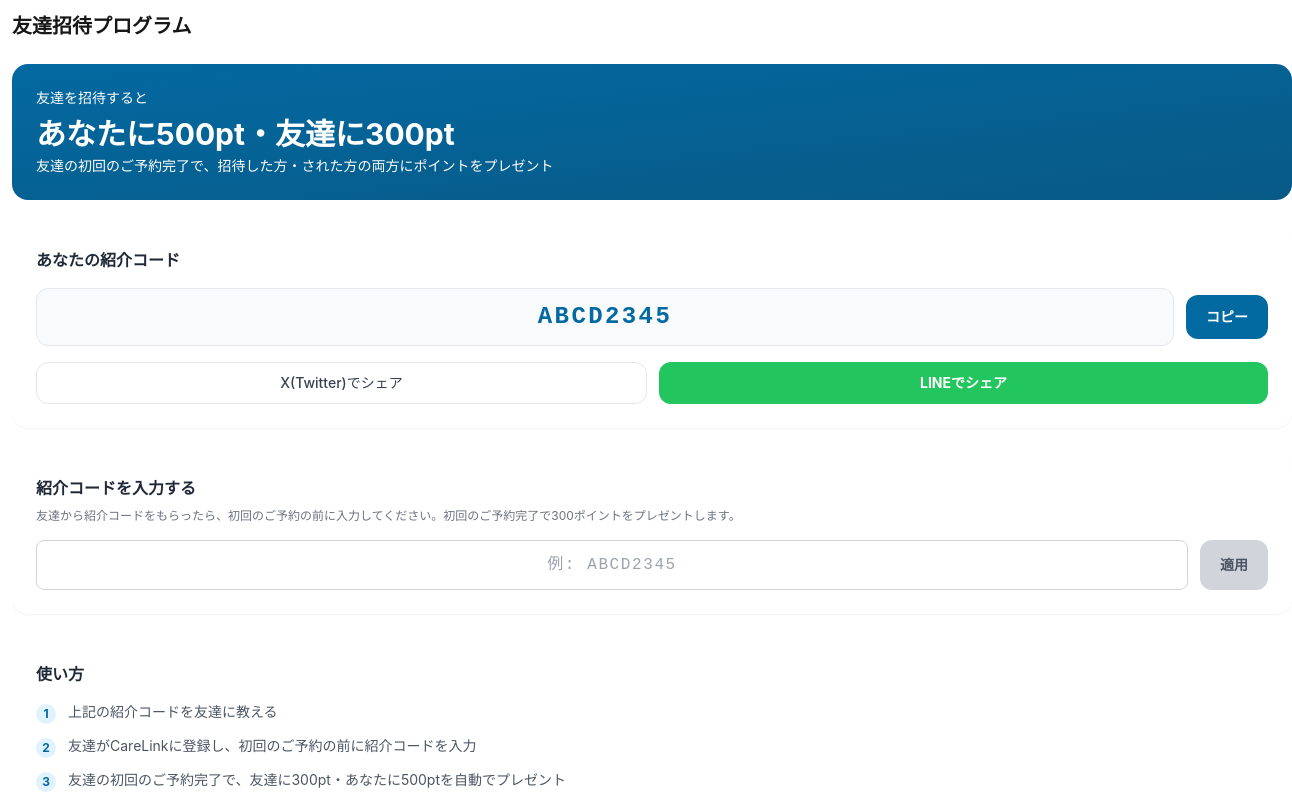
Test: 来店済みで断られたら、理由をそのまま伝えて「付与されます」とは言わない
The image size is (1292, 809).
Type "WXYZ2345" into the field with placeholder "例: ABCD2345".
click(612, 565); type("WXYZ2345")  # box [36, 540, 1188, 590]
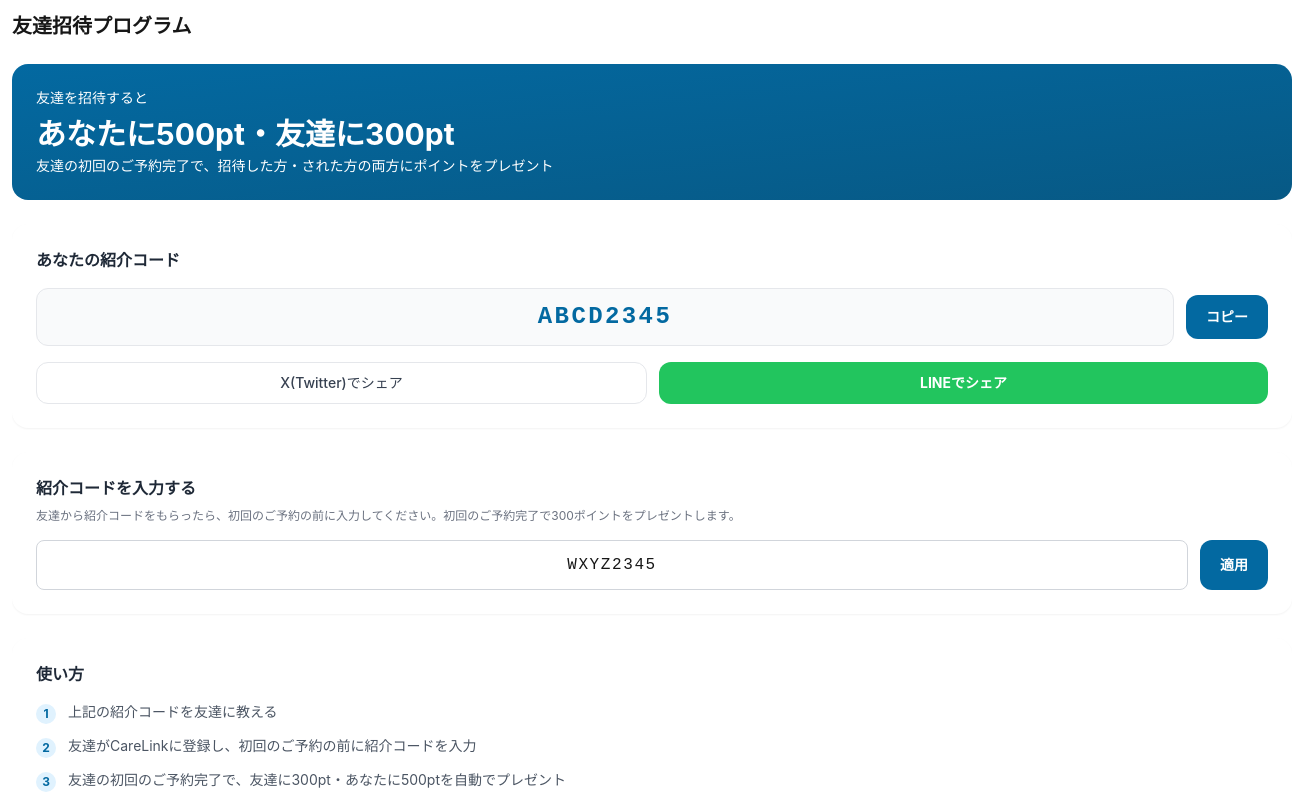
Click the button "適用".
click(1234, 565)  # box [1200, 540, 1268, 590]
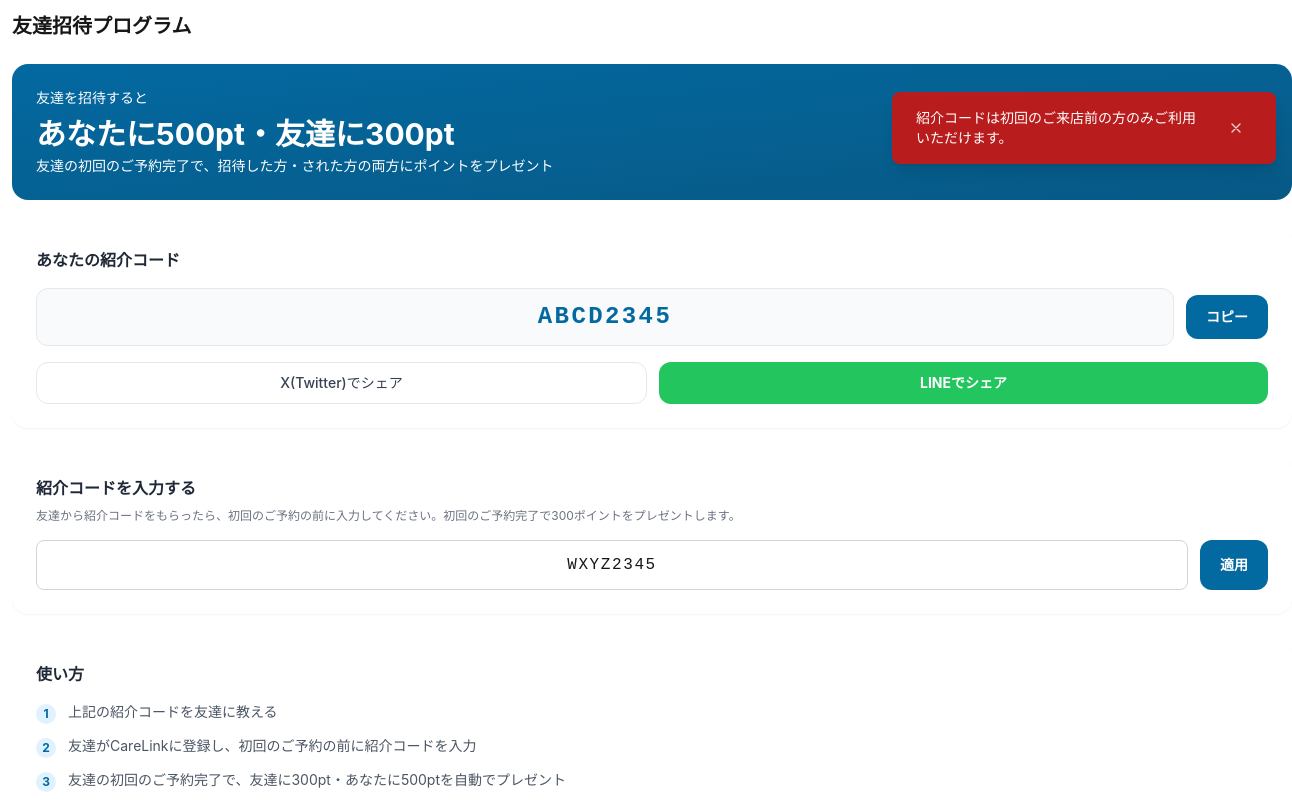
Result: the text "紹介コードは初回のご来店前の方のみご利用いただけます。" is shown at [916, 108, 1208, 148]
